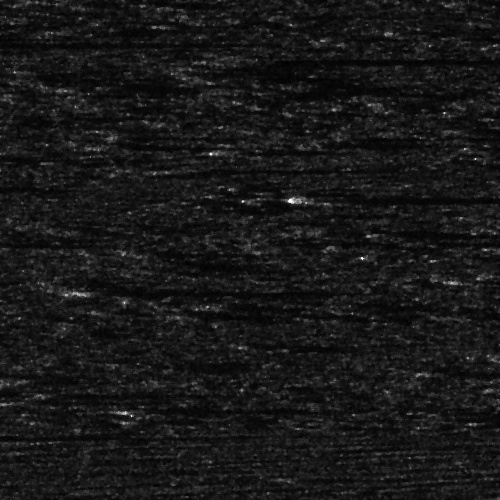object: (175, 144, 268, 155), (49, 283, 90, 294), (151, 166, 204, 173), (200, 57, 231, 62), (281, 475, 312, 480), (487, 3, 500, 8)
shadow: (70, 283, 358, 294), (178, 166, 400, 173), (216, 57, 500, 62), (221, 144, 297, 155), (297, 475, 445, 480)
